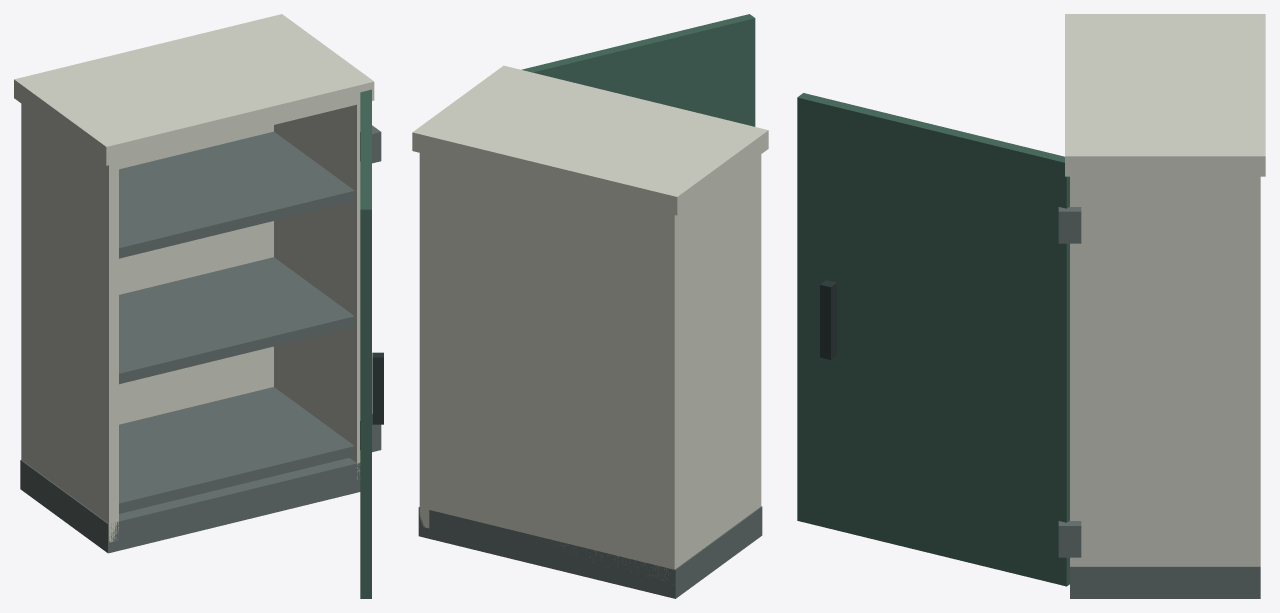
Rendered from legacy-187.glb.
The picture shows the model from 3 angles, left to right: view 1: azimuth 30°, elevation 25°; view 2: azimuth 150°, elevation 25°; view 3: azimuth 270°, elevation 25°; orthographic projection. The views are drawn at different scales.
Visible parts, largest first — view 1: part-3, part-2, part-4, part-7, part-8, part-6, part-5, part-1, part-9, part-10; view 2: part-5, part-3, part-2, part-9, part-1, part-4; view 3: part-9, part-4, part-2, part-1, part-10, part-11, part-12.
Part boxes in pixels (left/top/right/bottom): part-3: left=21, top=104, right=118, bottom=542; part-2: left=14, top=14, right=374, bottom=165; part-4: left=274, top=104, right=360, bottom=479; part-7: left=119, top=257, right=354, bottom=384; part-8: left=119, top=131, right=354, bottom=258; part-6: left=119, top=387, right=354, bottom=513; part-5: left=119, top=125, right=273, bottom=424; part-1: left=20, top=458, right=360, bottom=553; part-9: left=360, top=89, right=371, bottom=598; part-10: left=372, top=352, right=383, bottom=424; part-5: left=424, top=154, right=669, bottom=580; part-3: left=664, top=154, right=761, bottom=584; part-2: left=412, top=65, right=768, bottom=215; part-9: left=521, top=14, right=755, bottom=126; part-1: left=418, top=506, right=762, bottom=598; part-4: left=419, top=153, right=429, bottom=528; part-9: left=797, top=93, right=1069, bottom=586; part-4: left=1070, top=176, right=1260, bottom=566; part-2: left=1065, top=14, right=1265, bottom=176; part-1: left=1070, top=566, right=1260, bottom=598; part-10: left=820, top=280, right=836, bottom=359; part-11: left=1058, top=521, right=1081, bottom=557; part-12: left=1058, top=207, right=1081, bottom=243.
Bounding box in the file's own units: 0.68 × 0.9775 × 0.9332.
